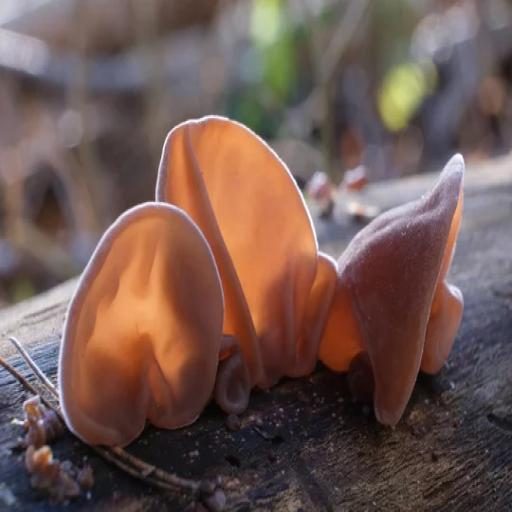Wood Ear Mushroom: (148, 112, 337, 413), (54, 194, 227, 453), (322, 148, 470, 441)
